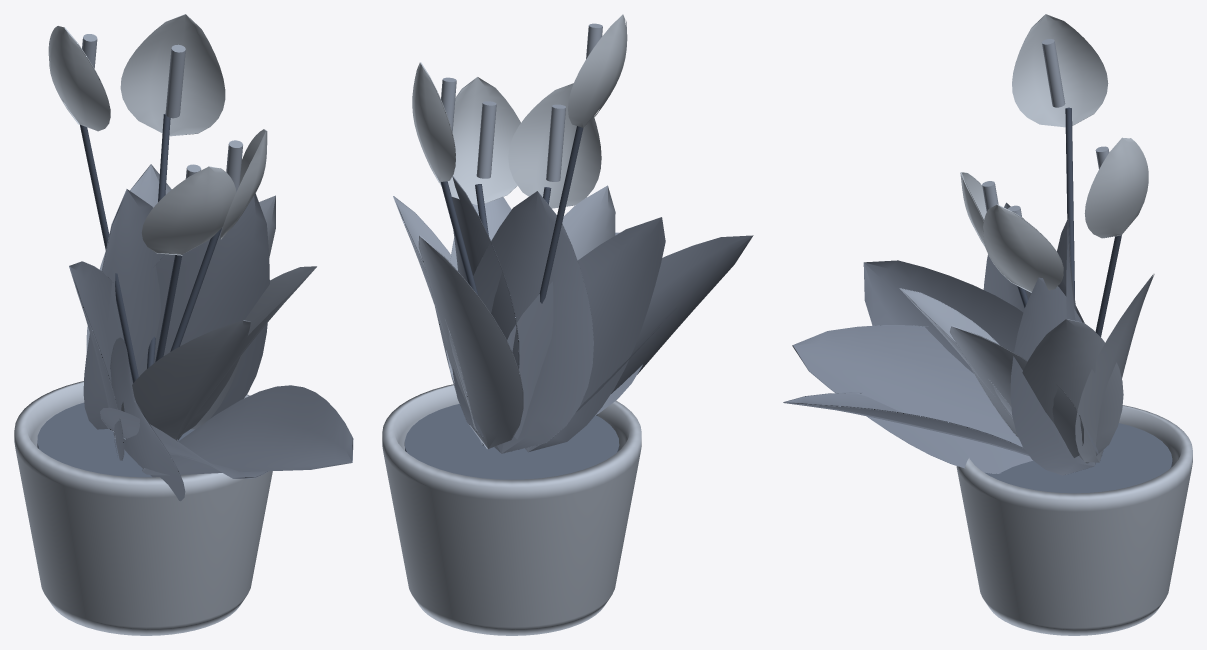
The model's file is flower-anthurium-lite.glb.
3 renders of one model, left to right at view 1: azimuth 30°, elevation 25°; view 2: azimuth 150°, elevation 25°; view 3: azimuth 270°, elevation 25°, orthographic. The views are drawn at different scales.
Visible parts, largest first — view 1: soft, body, accent, light, glass, dark, flowercenter; view 2: body, soft, accent, light, glass, flowercenter, dark; view 3: soft, body, accent, light, glass, dark, flowercenter.
Boxes of the visible parts, x1,y1,x2,y2 form: soft: [69, 189, 353, 501]; body: [14, 381, 272, 635]; accent: [48, 14, 267, 255]; light: [86, 164, 316, 441]; glass: [37, 402, 194, 477]; dark: [80, 113, 221, 383]; flowercenter: [82, 34, 242, 191]; body: [382, 384, 641, 635]; soft: [452, 176, 753, 453]; accent: [412, 14, 627, 208]; light: [393, 185, 615, 449]; glass: [404, 404, 619, 479]; flowercenter: [441, 23, 602, 181]; dark: [440, 126, 583, 303]; soft: [783, 202, 1102, 475]; body: [956, 405, 1192, 635]; accent: [960, 14, 1148, 292]; light: [899, 274, 1154, 463]; glass: [985, 423, 1172, 493]; dark: [1017, 107, 1121, 336]; flowercenter: [982, 39, 1109, 217].
Size of the model in its own units: 0.2922 by 0.66 by 0.4525.
